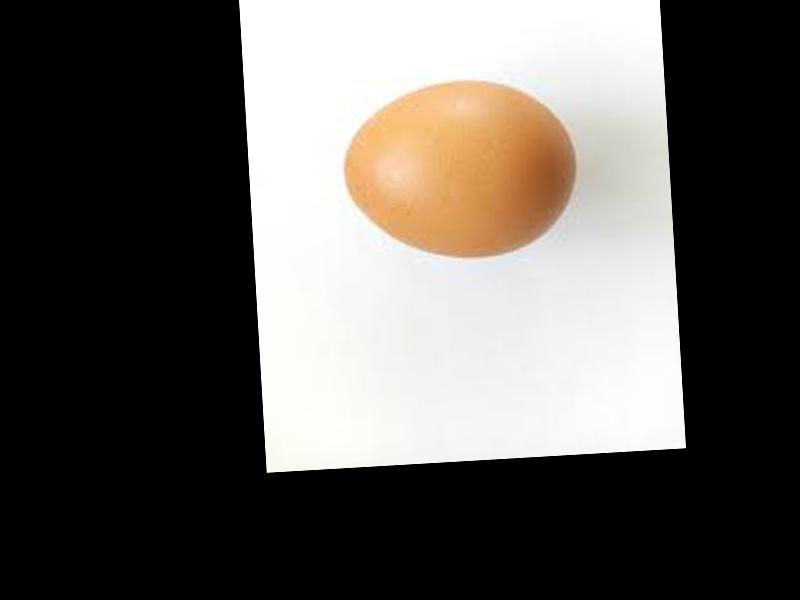Eggs: (335, 76, 583, 267)
